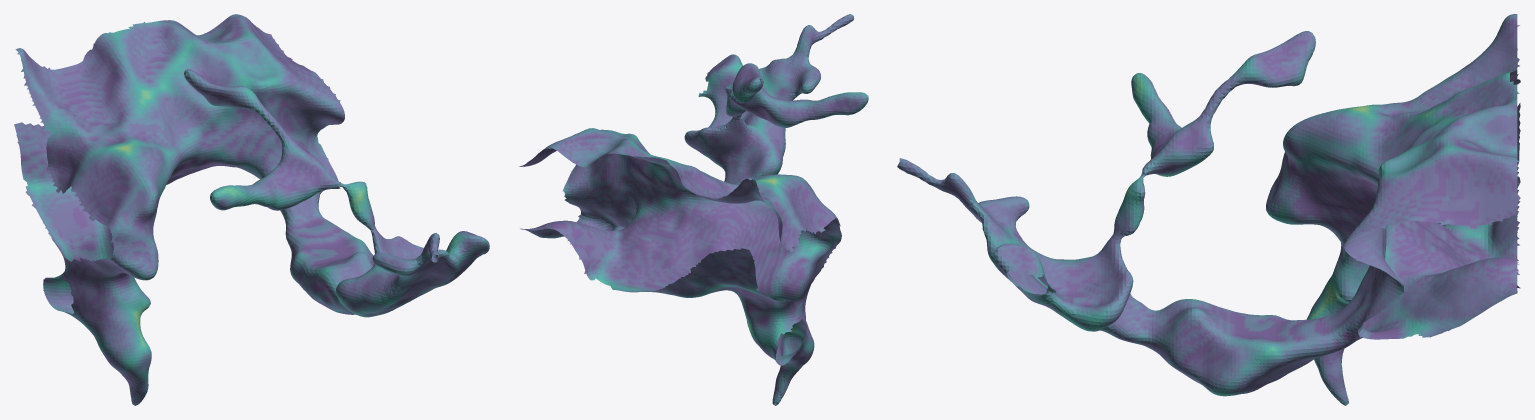
Rendered from crop1140_gap.glb.
3 renders of one model, left to right at view 1: azimuth 30°, elevation 25°; view 2: azimuth 150°, elevation 25°; view 3: azimuth 270°, elevation 25°, orthographic. The views are drawn at different scales.
Parts seen in each view (by area): view 1: world; view 2: world; view 3: world.
Boxes of the visible parts, <box> form: world: <box>14,14,489,405</box>; world: <box>519,14,868,405</box>; world: <box>897,14,1520,405</box>.
Bounding box in the file's own units: 1536 × 1909 × 2732.
